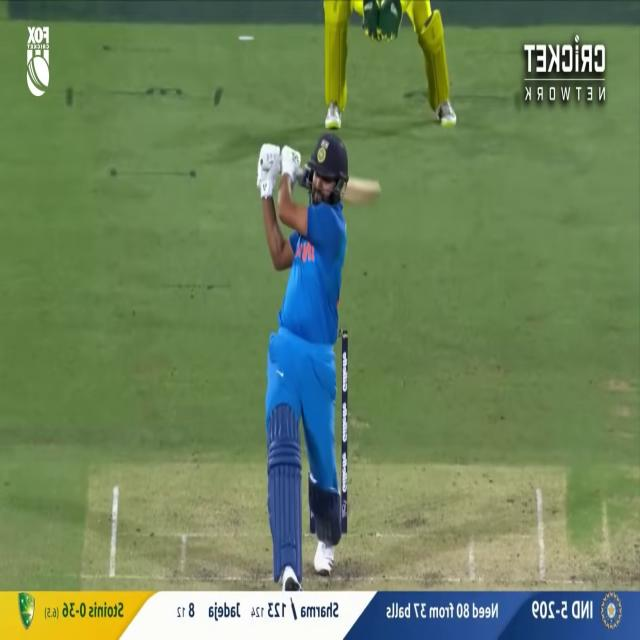stump: (337, 328, 348, 536), (309, 510, 316, 535)
